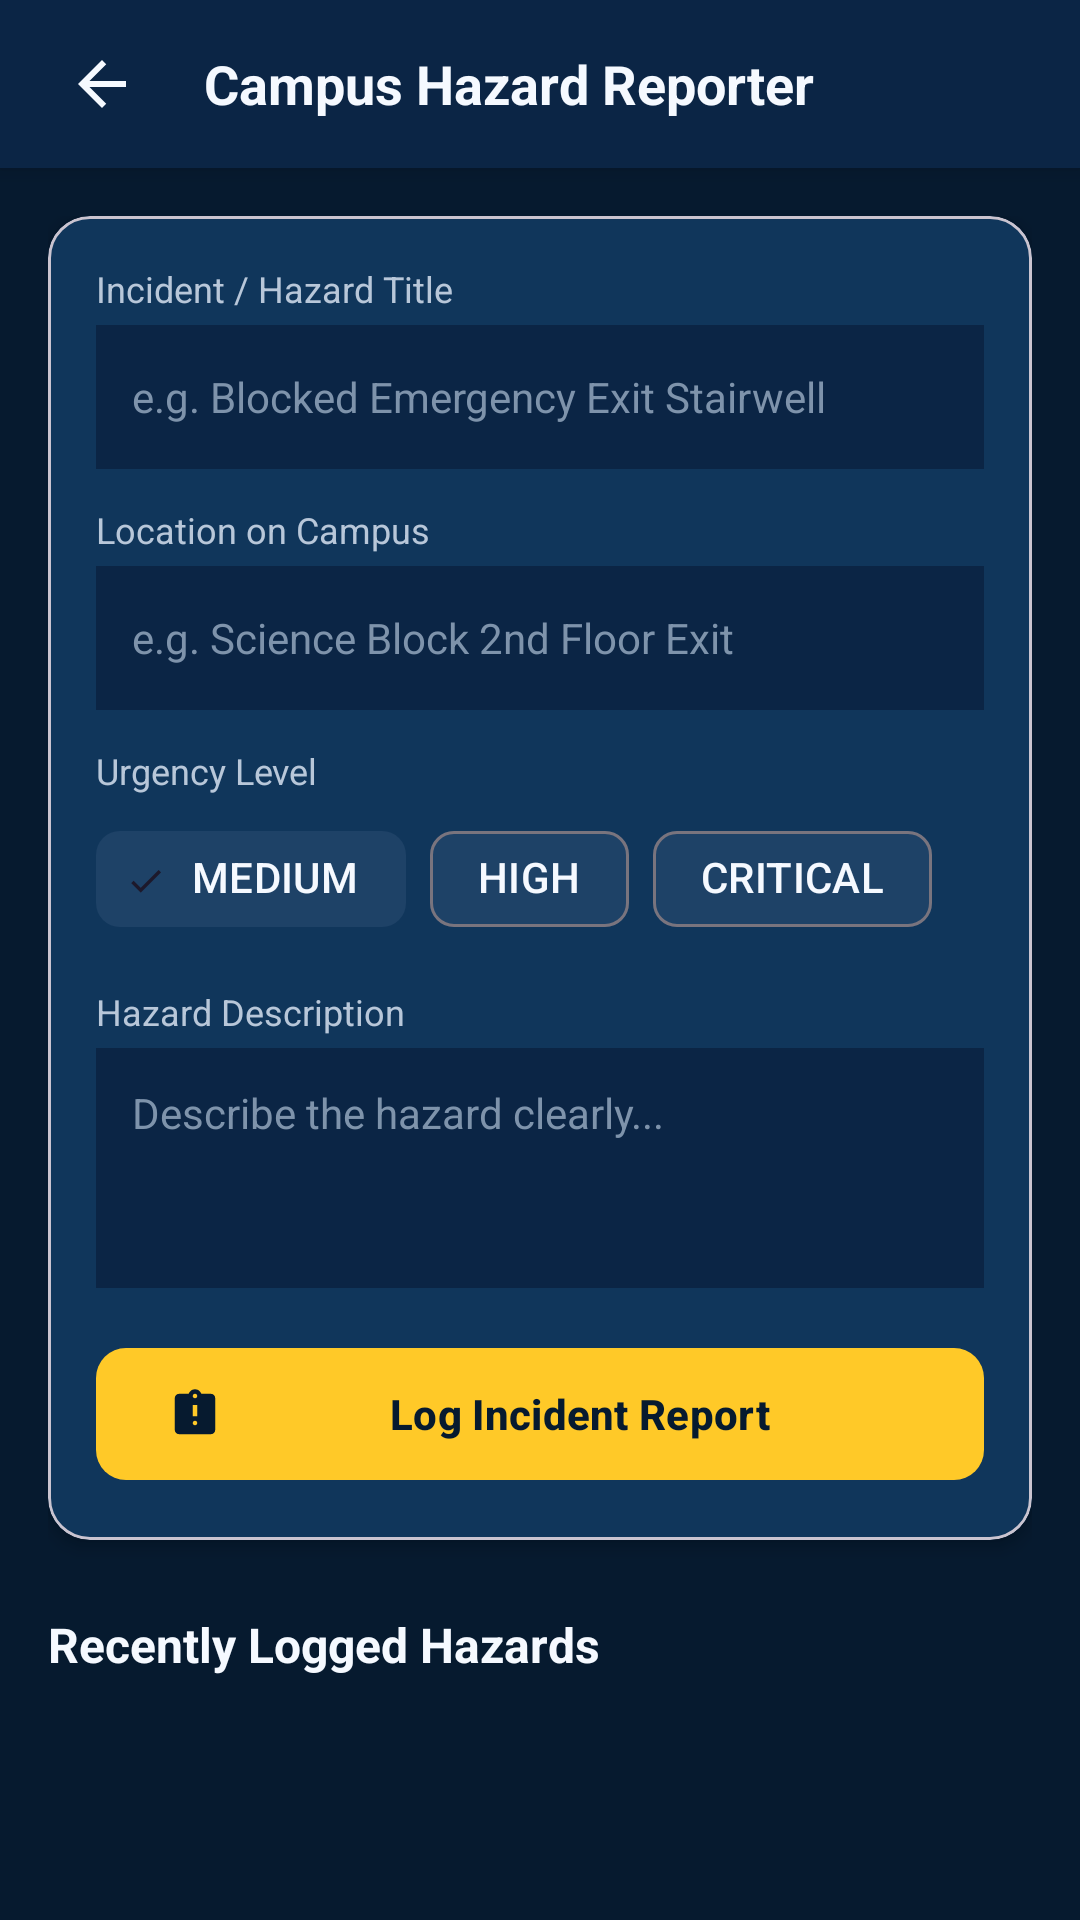

Where icons sit on this 1080px×1920px app screen, as (x1, y1, x2, y2):
Back: (78, 60, 126, 108)
